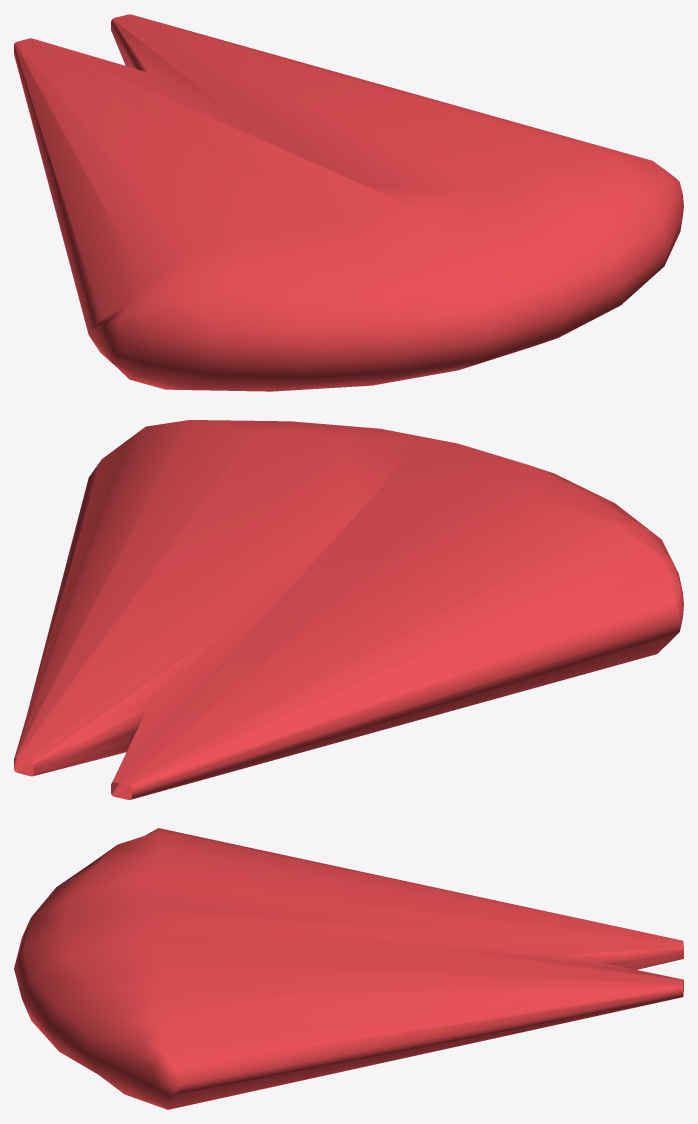
The model's file is CarHeadlights.fbx.
The picture shows the model from 3 angles, top to bottom: view 1: azimuth 30°, elevation 25°; view 2: azimuth 150°, elevation 25°; view 3: azimuth 270°, elevation 25°; orthographic projection. The views are drawn at different scales.
Parts seen in each view (by area): view 1: Car Headlights; view 2: Car Headlights; view 3: Car Headlights.
Part boxes in pixels (<box>): Car Headlights: <box>14,14,683,391</box>; Car Headlights: <box>14,420,683,799</box>; Car Headlights: <box>14,828,683,1109</box>.
Size of the model in its own units: 1385 by 344 by 1689.
